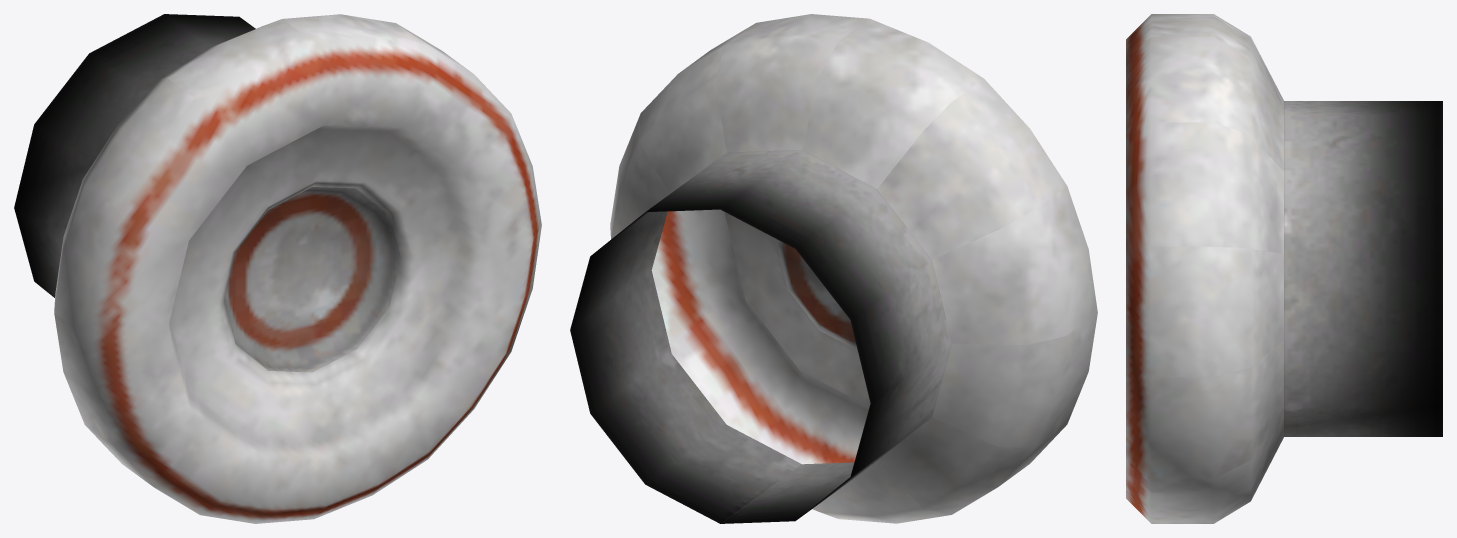
The model's file is cargo_elevator_tau_sign_button.dae.
3 renders of one model, left to right at view 1: azimuth 30°, elevation 25°; view 2: azimuth 150°, elevation 25°; view 3: azimuth 270°, elevation 25°, orthographic. The views are drawn at different scales.
Visible parts, largest first — view 1: pCylinder3; view 2: pCylinder3; view 3: pCylinder3.
Part boxes in pixels (bbox=[...]): pCylinder3: bbox=[14, 14, 541, 523]; pCylinder3: bbox=[570, 14, 1097, 523]; pCylinder3: bbox=[1126, 14, 1442, 523].
Bounding box in the file's own units: 0.1276 × 0.1276 × 0.079.
